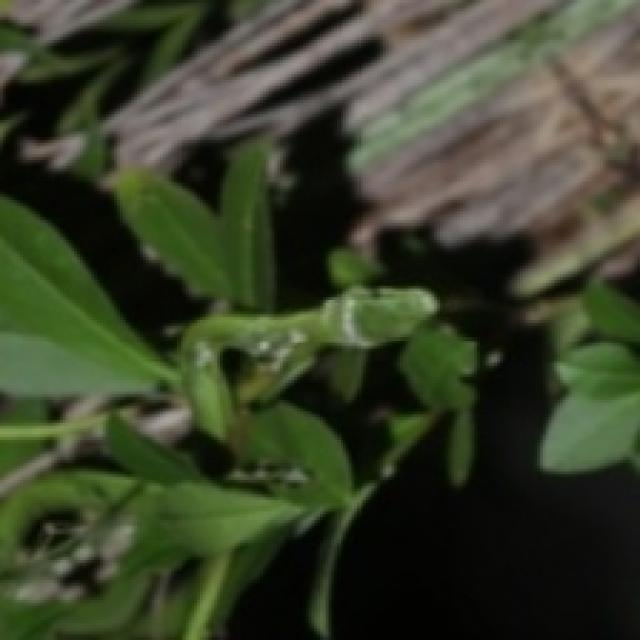red-tailed green ratsnake: (180, 288, 436, 441)
